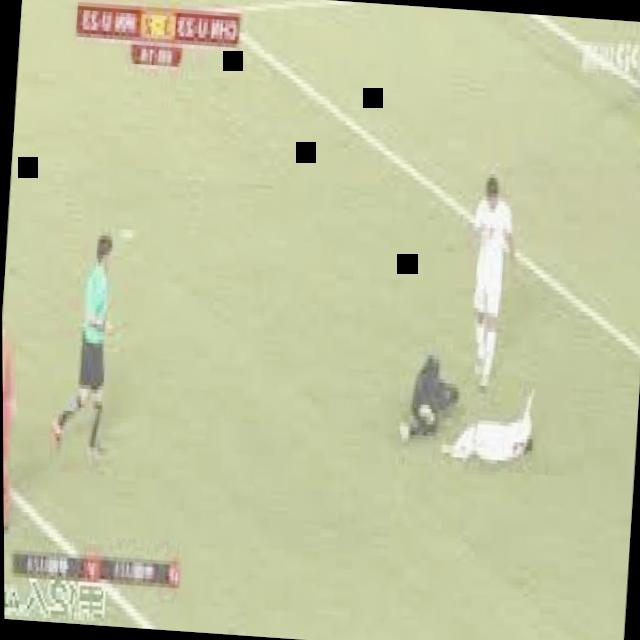Fall-Detected: (395, 326, 472, 446)
